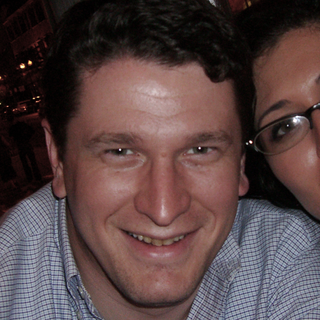eye: (99, 140, 143, 165), (178, 135, 216, 163), (266, 119, 300, 143)
